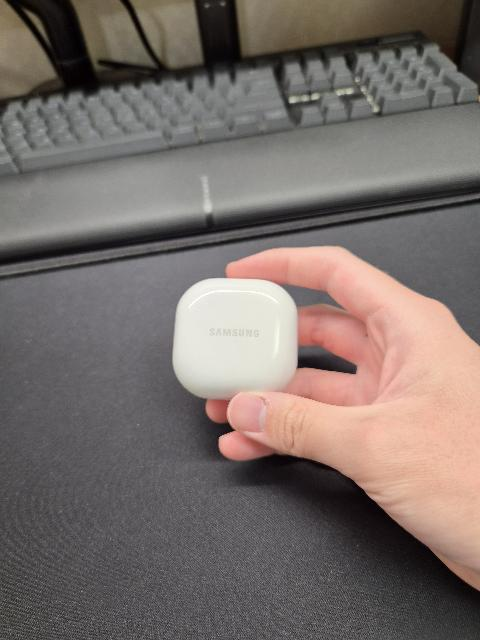earphone_case: (172, 277, 299, 401)
